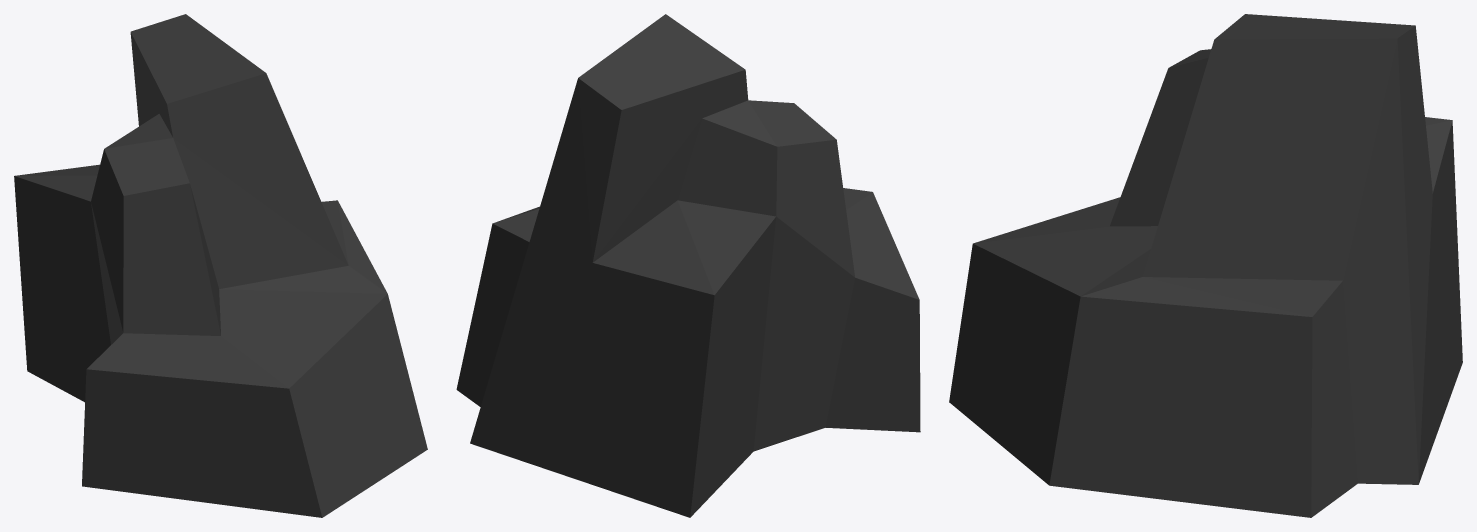
The model's file is RAS_Rock02.fbx.
3 renders of one model, left to right at view 1: azimuth 30°, elevation 25°; view 2: azimuth 150°, elevation 25°; view 3: azimuth 270°, elevation 25°, orthographic. The views are drawn at different scales.
Visible parts, largest first — view 1: RAS_Rock02; view 2: RAS_Rock02; view 3: RAS_Rock02.
Boxes of the visible parts, <box> form: RAS_Rock02: <box>14,14,427,517</box>; RAS_Rock02: <box>456,14,920,517</box>; RAS_Rock02: <box>949,14,1462,517</box>.
Bounding box in the file's own units: 67.4 × 62.82 × 73.71.
1 material, 1 textured.
